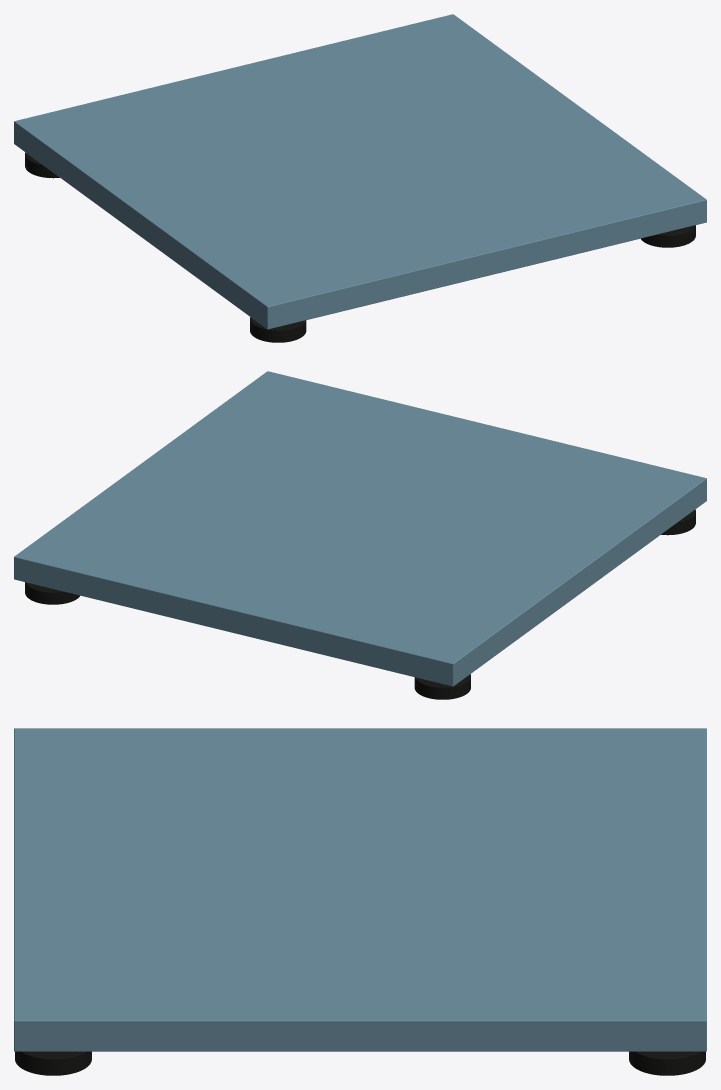
File: PLT-1X1-AC.glb
3 views of the same model, one above another, from view 1: azimuth 30°, elevation 25°; view 2: azimuth 150°, elevation 25°; view 3: azimuth 270°, elevation 25° (orthographic). The views are drawn at different scales.
Size of the model in its own units: 360 by 32 by 360.
